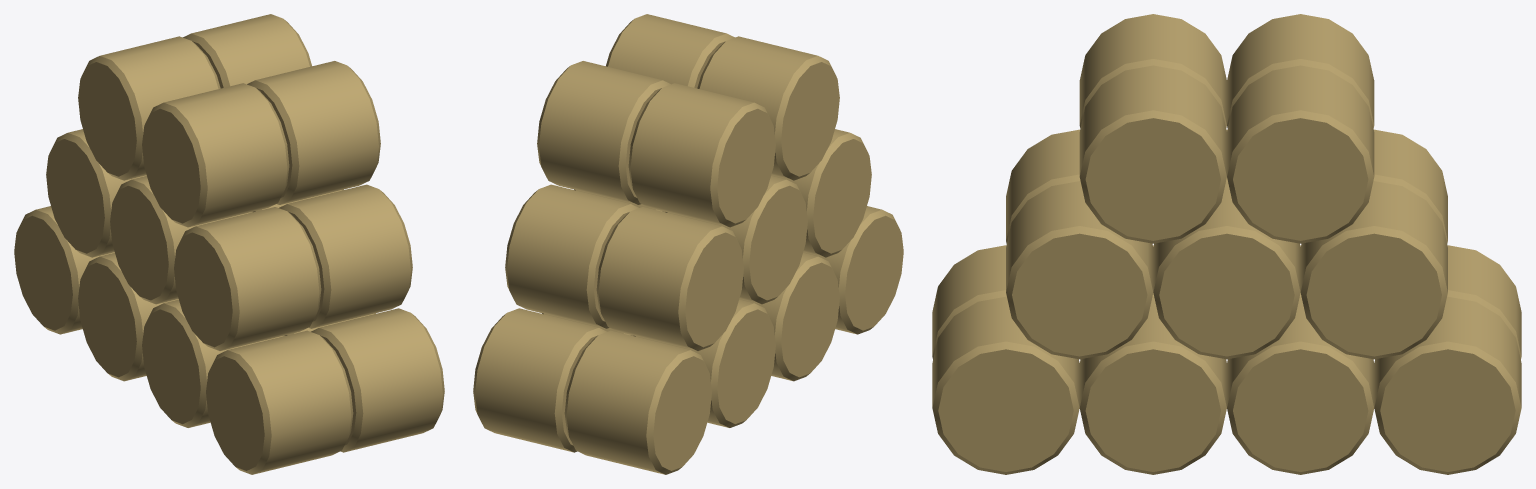
Rendered from farm.bale.stack_round.glb.
3 renders of one model, left to right at view 1: azimuth 30°, elevation 25°; view 2: azimuth 150°, elevation 25°; view 3: azimuth 270°, elevation 25°, orthographic. The views are drawn at different scales.
Visible parts, largest first — view 1: main__timber_ba6; view 2: main__timber_ba6; view 3: main__timber_ba6.
Boxes of the visible parts, bbox=[...] form: main__timber_ba6: bbox=[14, 14, 444, 474]; main__timber_ba6: bbox=[473, 14, 903, 474]; main__timber_ba6: bbox=[932, 14, 1521, 474].
Size of the model in its own units: 2.44 by 4.1 by 6.
